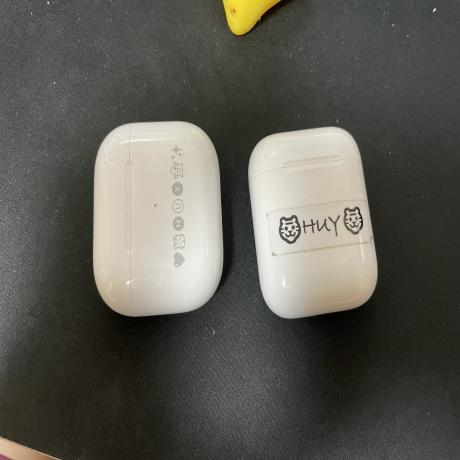airpod2: (247, 123, 384, 323)
airpod3: (90, 120, 227, 320)
